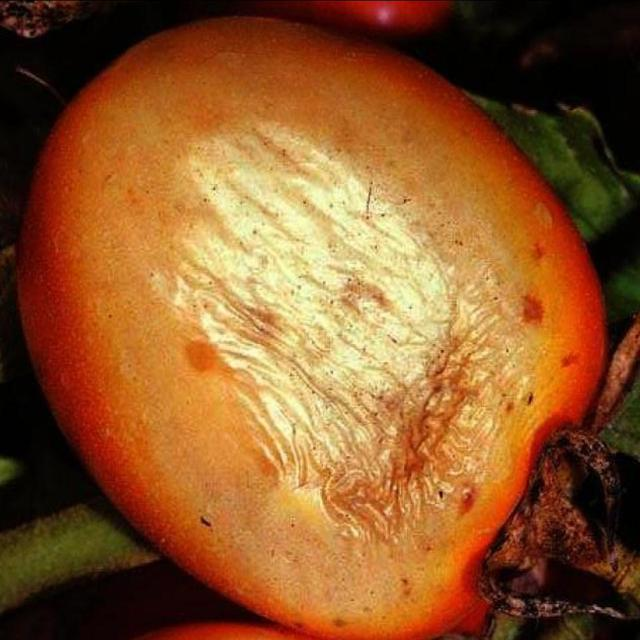Sunscald Fruit: (53, 45, 391, 368)
